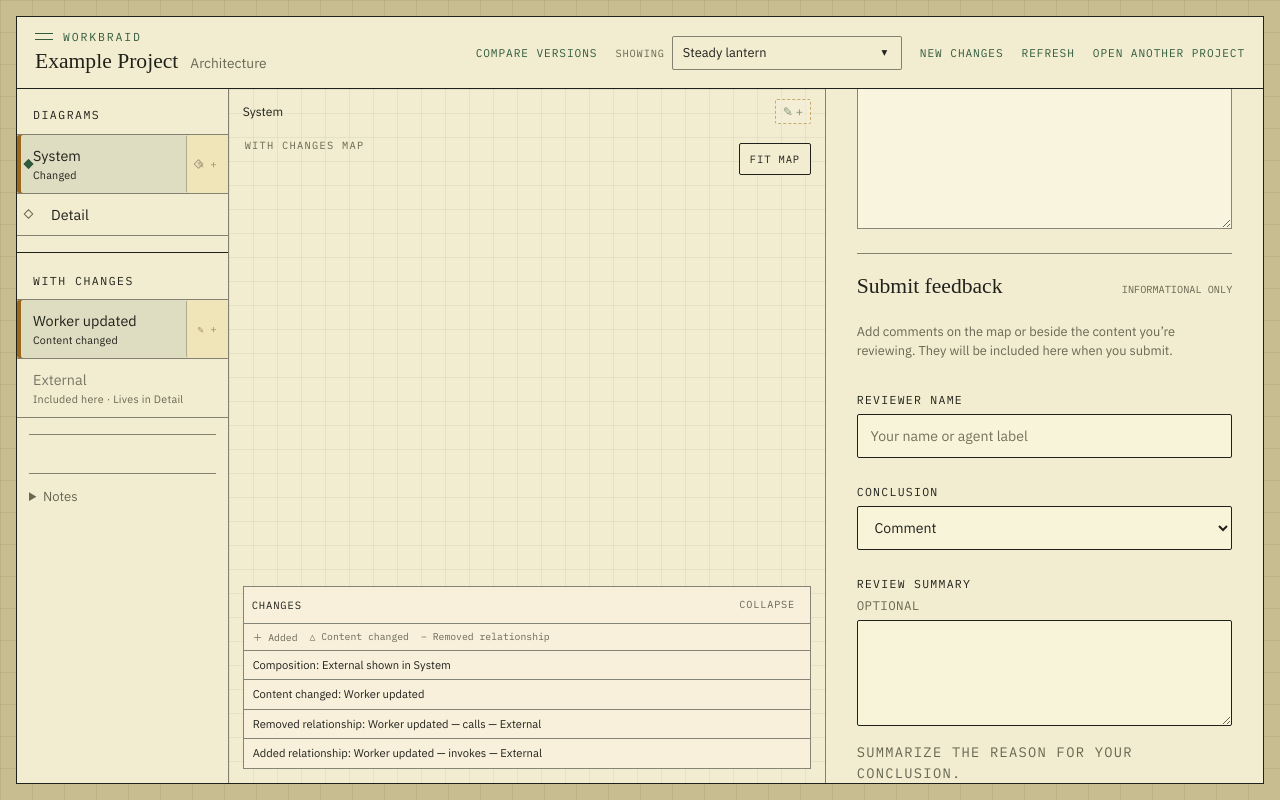
candidate review regressions › submits immutable anchored feedback and opens its exact review route
(page scrolled)
In the field labelled "Reviewer name": (1045, 436) left=857, top=414, right=1232, bottom=458, type "Human reviewer"
Select "Request changes" in the dropdown labelled "Conclusion": (1045, 528) left=857, top=506, right=1232, bottom=550
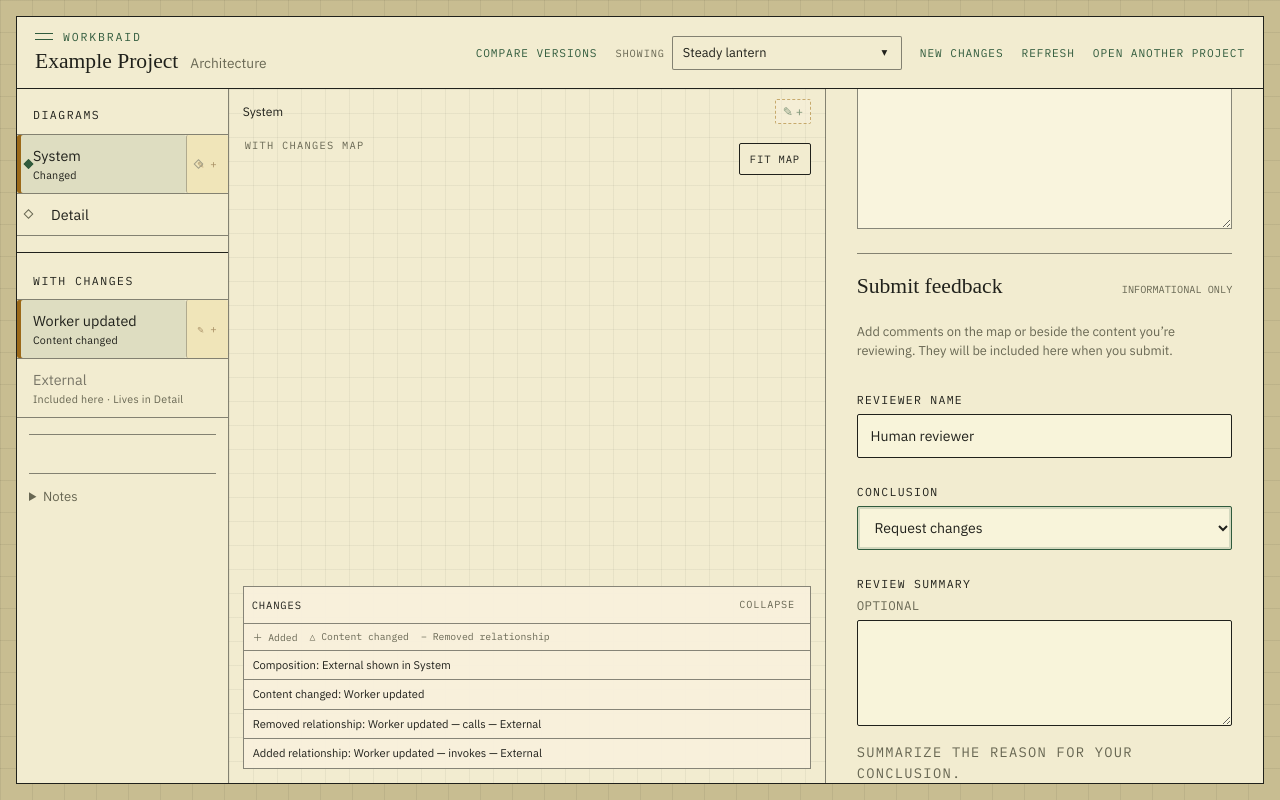
In the text box labelled "Review summary": (1045, 673) left=857, top=620, right=1232, bottom=726, type "Please revise this."
(page scrolled)
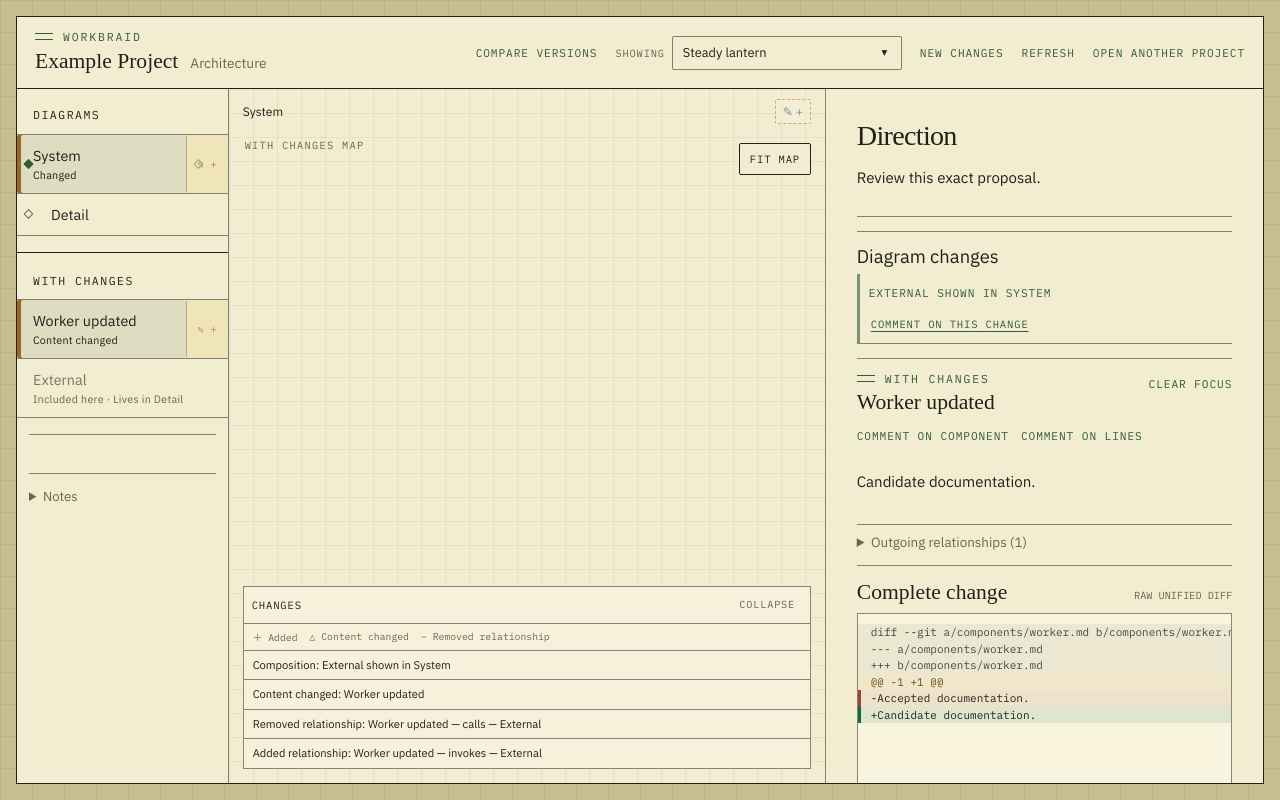
Click the button "Comment on lines": (1082, 436) left=1021, top=426, right=1143, bottom=446
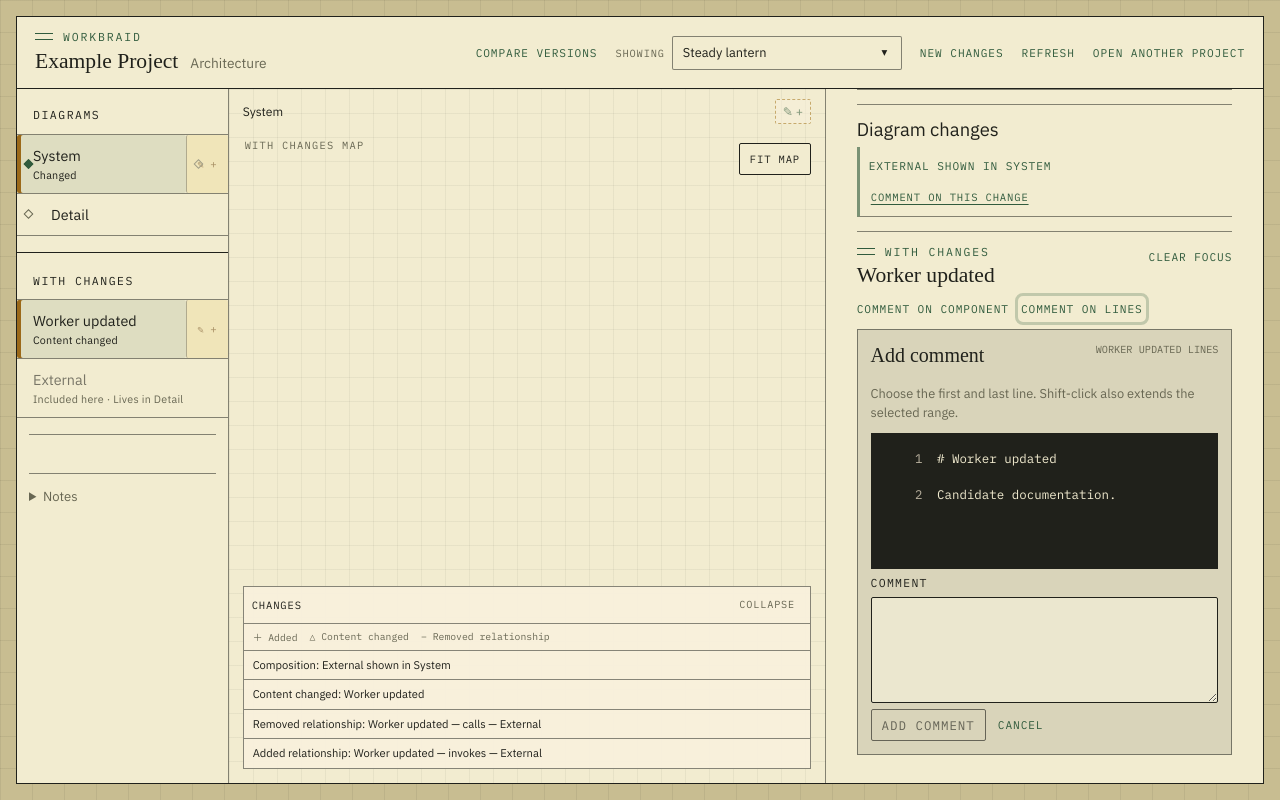
Click the option named "2Candidate documentation": (1037, 497) left=870, top=479, right=1203, bottom=515
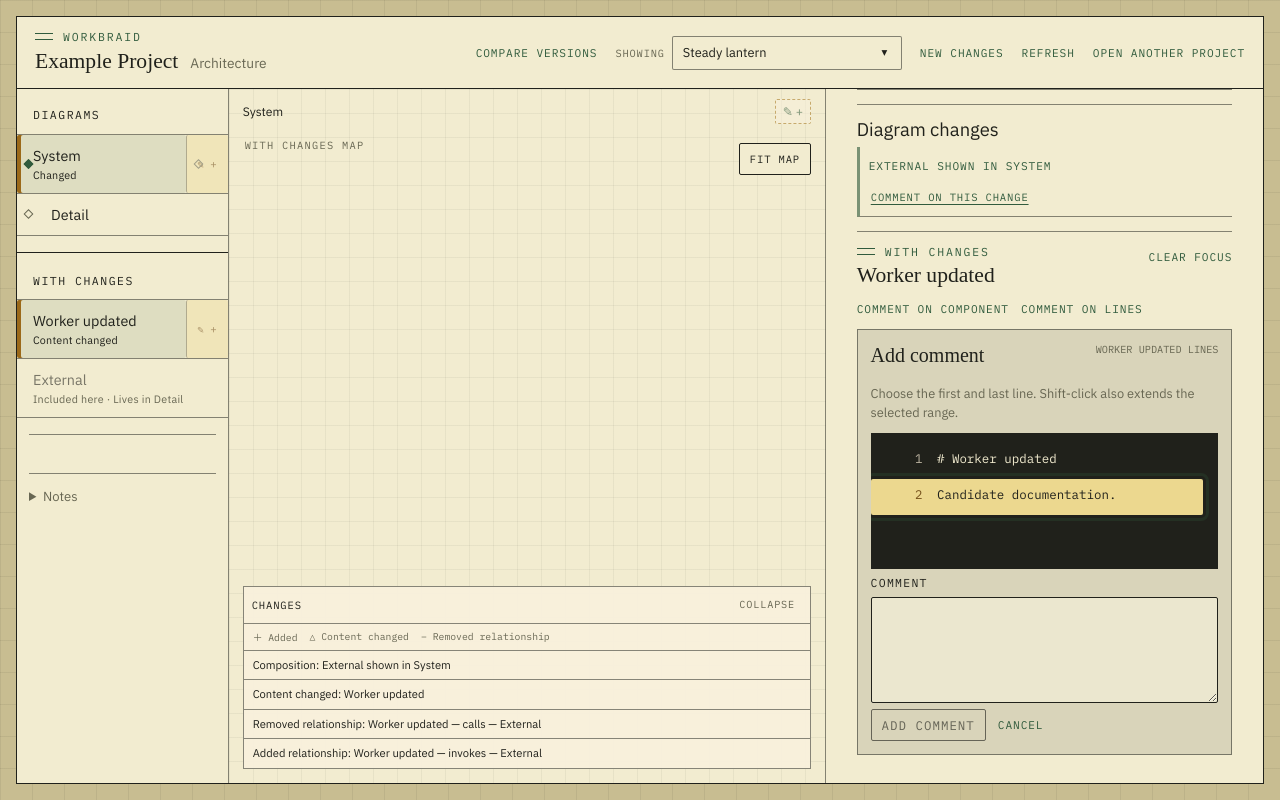
In the text box labelled "Comment": (1044, 650) left=870, top=597, right=1218, bottom=703, type "Clarify this line."
Click the button "Add comment": (928, 725) left=870, top=709, right=986, bottom=741
(page scrolled)
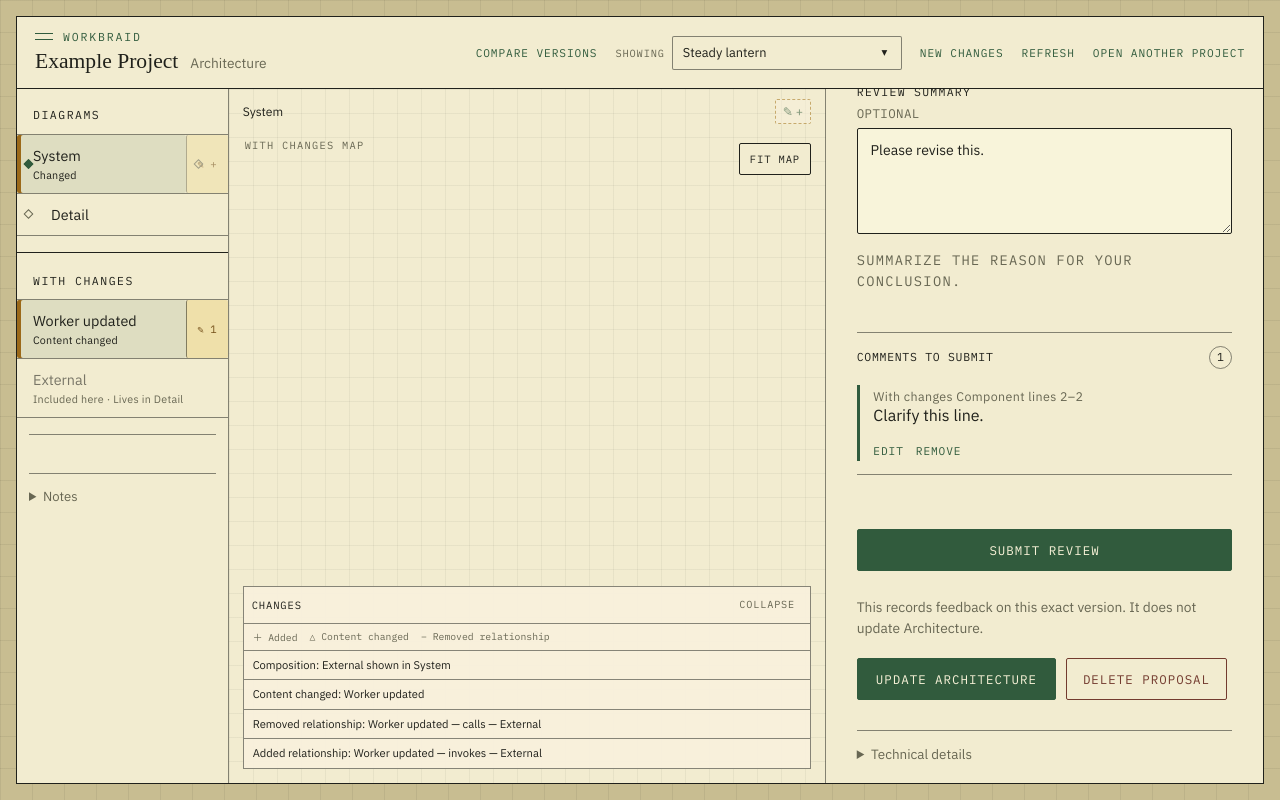
Click the button "Submit review": (1045, 550) left=857, top=529, right=1232, bottom=571
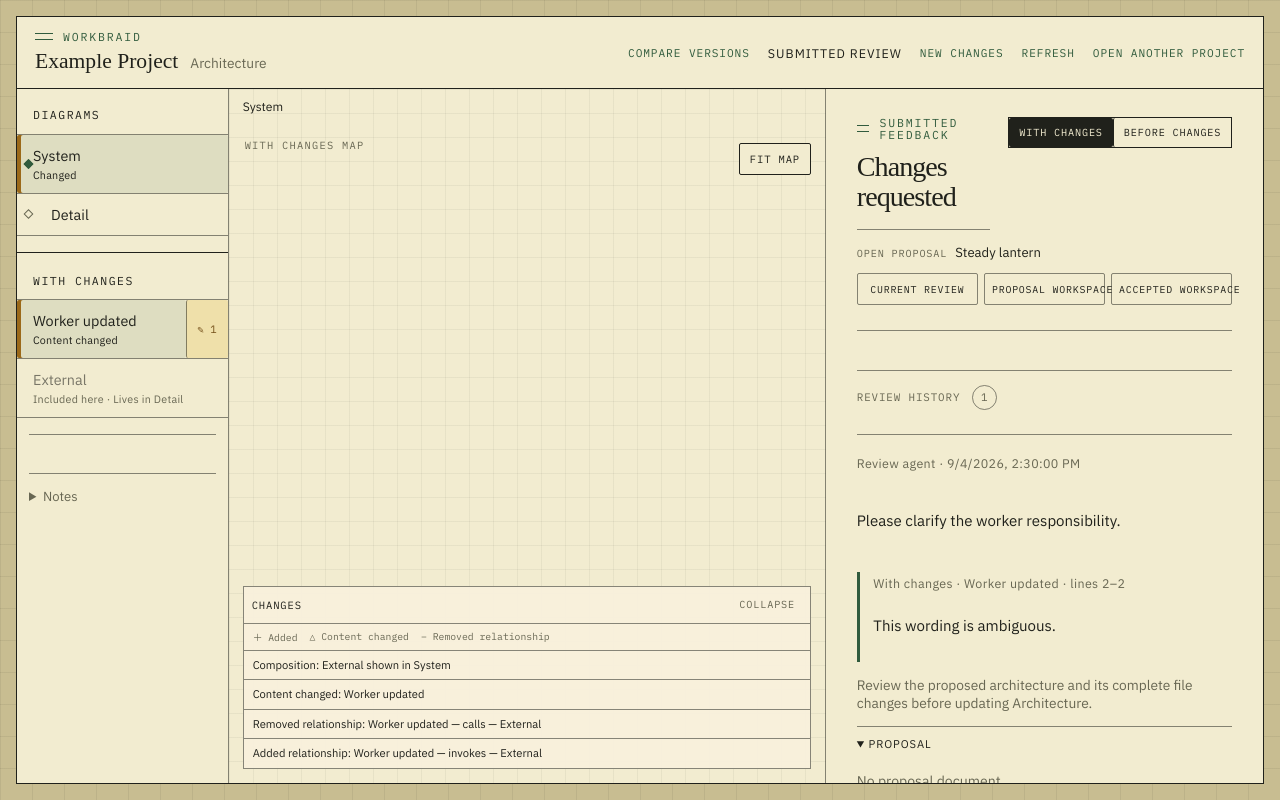
Check: the heading "Changes requested" is shown, box left=857, top=151, right=956, bottom=212
Check: the text "Submitted review" is shown, box left=768, top=44, right=902, bottom=60
Check: the text "Showing " is gone
